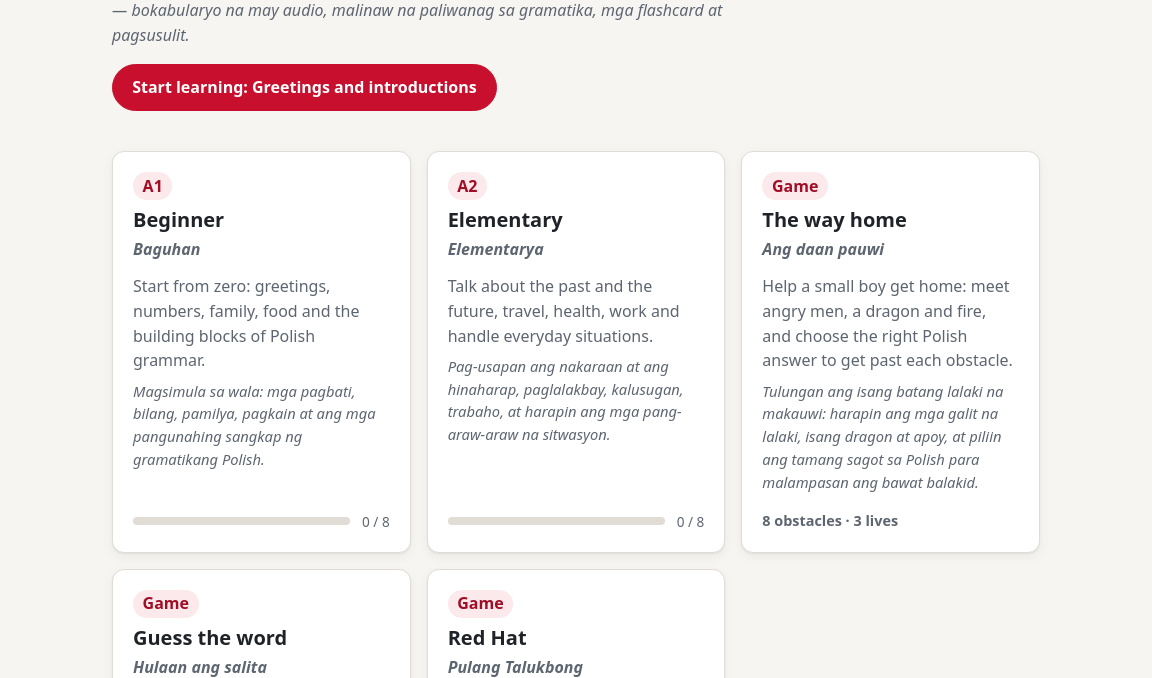
Scenario: App › offers the game as a third block on the home page and opens it
(page scrolled)
Click the link "The way home" at (891, 352), box [741,151,1040,553]
(page scrolled)
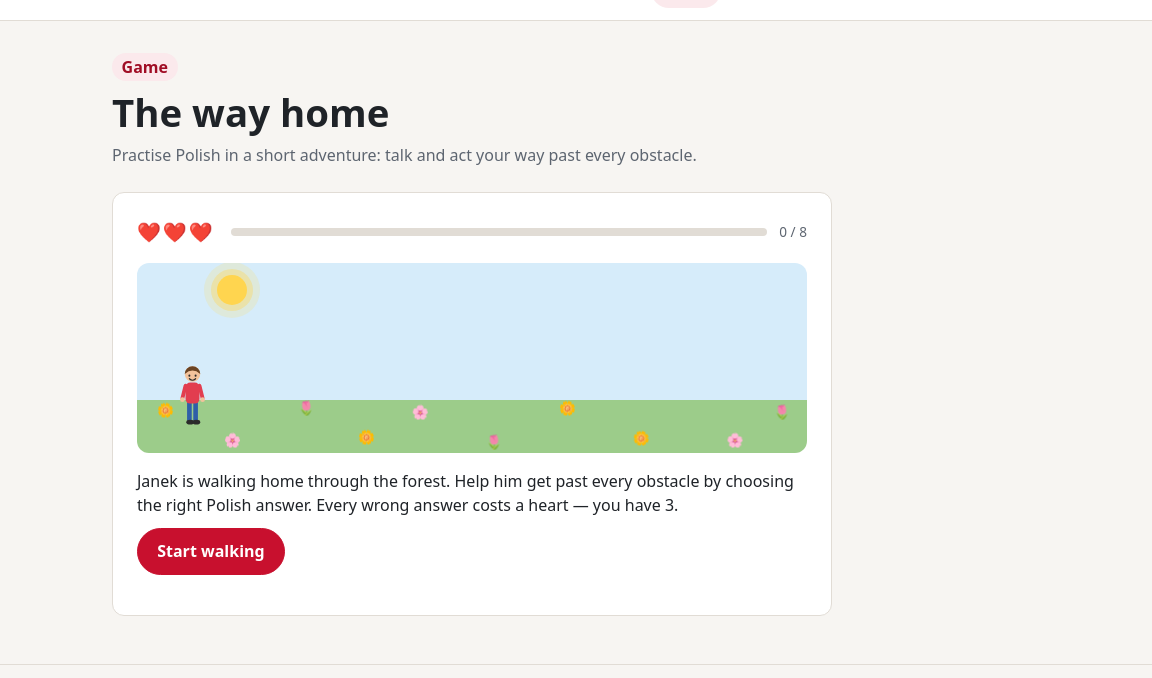
Expected: the heading "The way home" is shown, [112,86,389,138]
Expected: the button "Start walking" is shown, [137,528,285,575]
